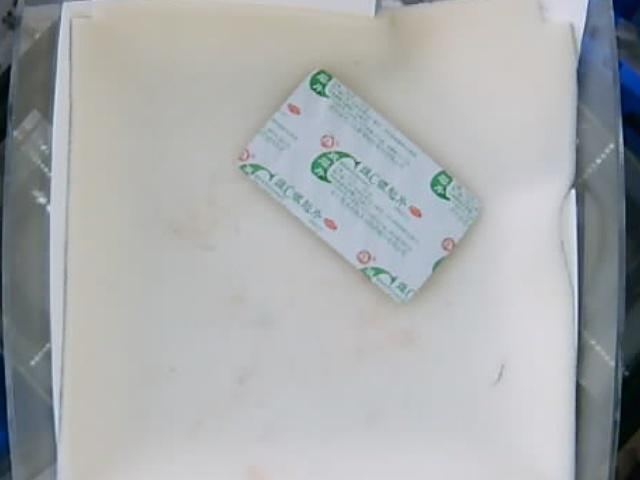Medicine: (244, 69, 484, 303)
